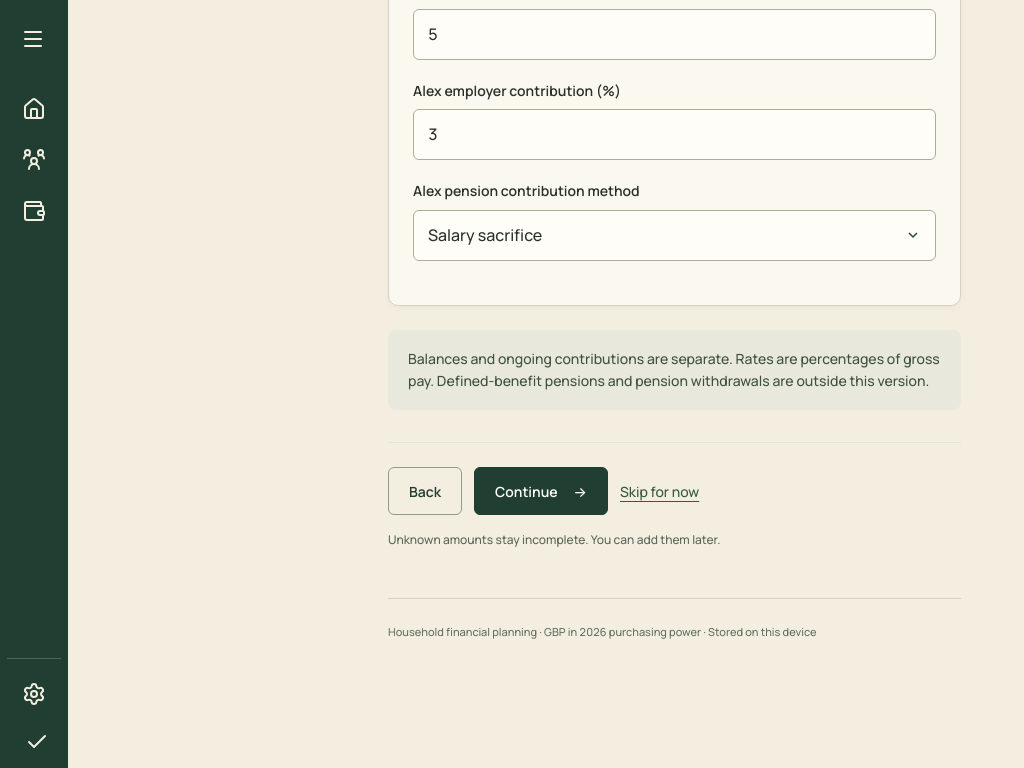
Test: shows incomplete totals and actionable missing details after skipping finances
(page scrolled)
Click the button "Skip for now".
click(660, 491)  # box 620,473 -> 699,510
(page scrolled)
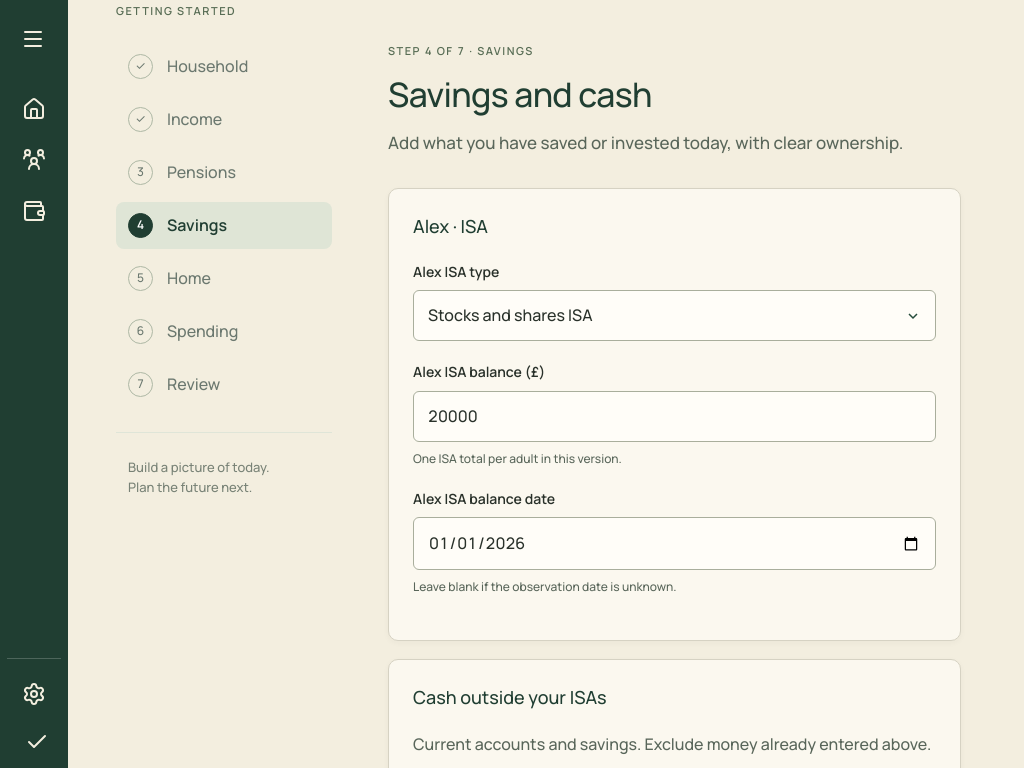
Click the button "7 Review".
click(224, 384)  # box 116,361 -> 332,408
(page scrolled)
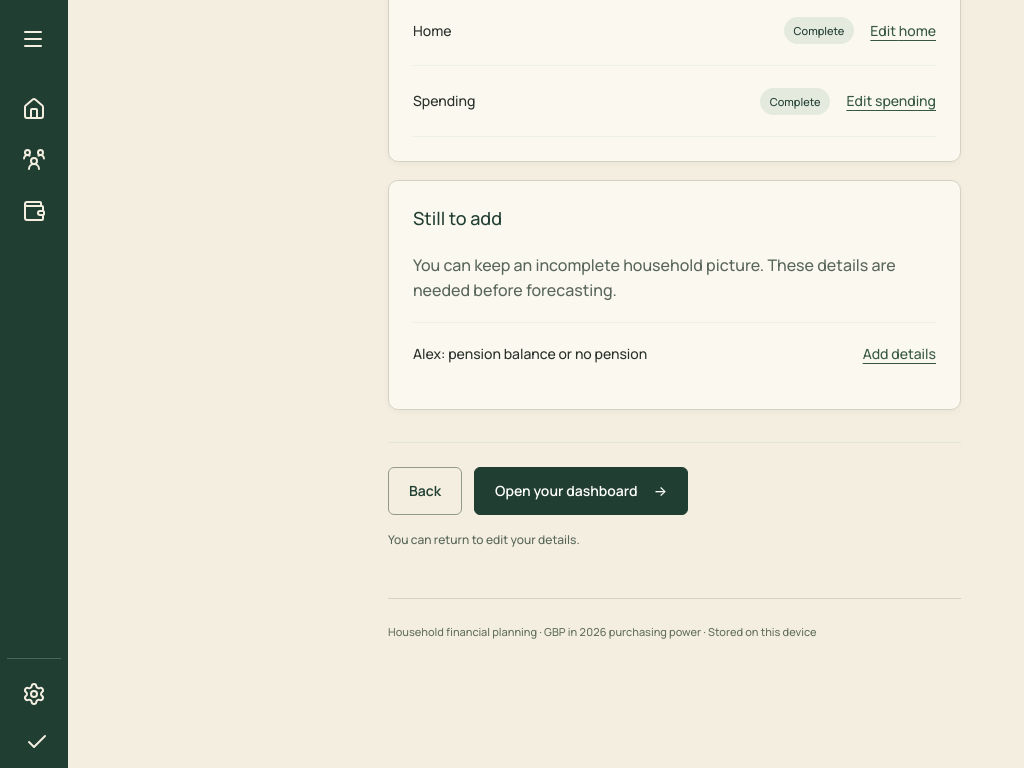
Click the button "Open your dashboard →".
click(581, 491)  # box 474,467 -> 688,515
(page scrolled)
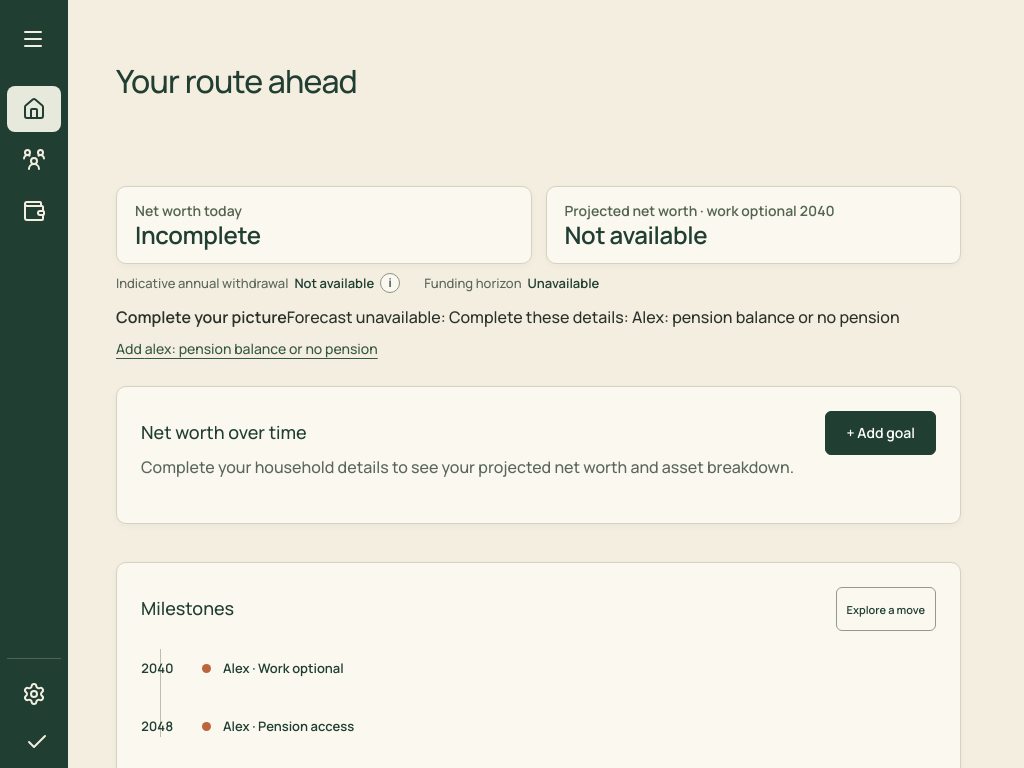
Expected: the text "Incomplete" is shown, 135,218 -> 261,248
Result: the text "Forecast unavailable" shows "pension balance" at 449,306 -> 900,328
